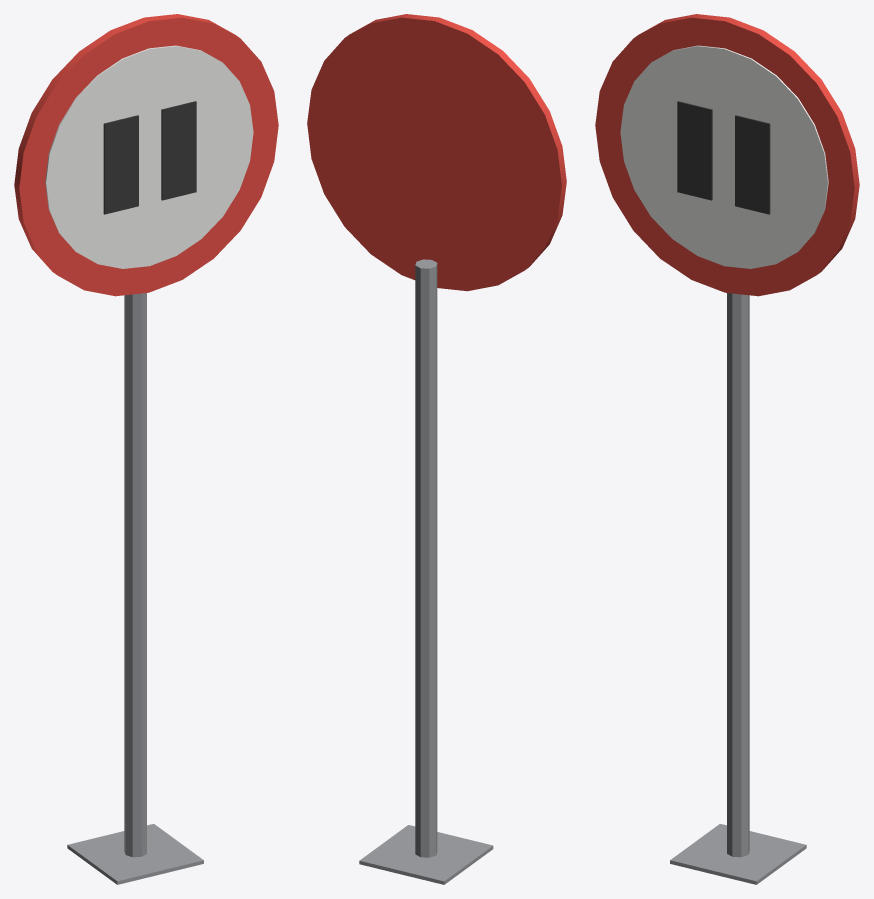
Rendered from pit_speed_limit.glb.
3 renders of one model, left to right at view 1: azimuth 30°, elevation 25°; view 2: azimuth 150°, elevation 25°; view 3: azimuth 330°, elevation 25°, orthographic.
Visible parts, largest first — view 1: pit_speed_limit; view 2: pit_speed_limit; view 3: pit_speed_limit.
Part boxes in pixels (<box>): pit_speed_limit: <box>14,14,278,884</box>; pit_speed_limit: <box>307,14,566,884</box>; pit_speed_limit: <box>595,14,859,884</box>.
Size of the model in its own units: 0.9 by 2.8 by 0.3.
